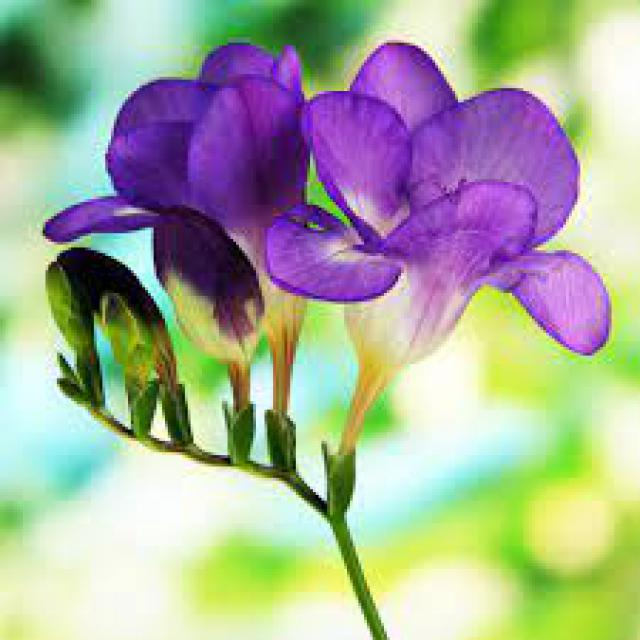freesia: (23, 23, 628, 444)
